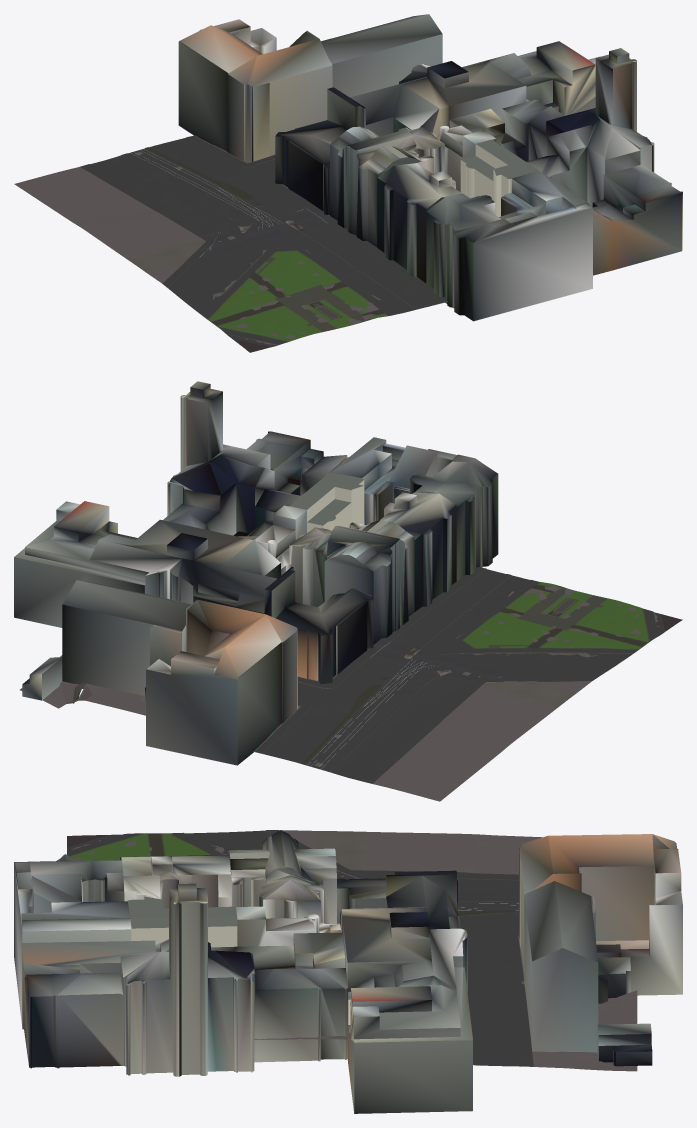
The picture shows the model from 3 angles, top to bottom: view 1: azimuth 30°, elevation 25°; view 2: azimuth 150°, elevation 25°; view 3: azimuth 270°, elevation 25°; orthographic projection. The views are drawn at different scales.
Parts seen in each view (by area): view 1: c_m04_p03; view 2: c_m04_p03; view 3: c_m04_p03.
Boxes of the visible parts, box(x1,y1,x2,y2) form: c_m04_p03: box(14, 14, 682, 352); c_m04_p03: box(14, 381, 682, 801); c_m04_p03: box(14, 830, 682, 1113).
Size of the model in its own units: 152 by 51.81 by 150.
